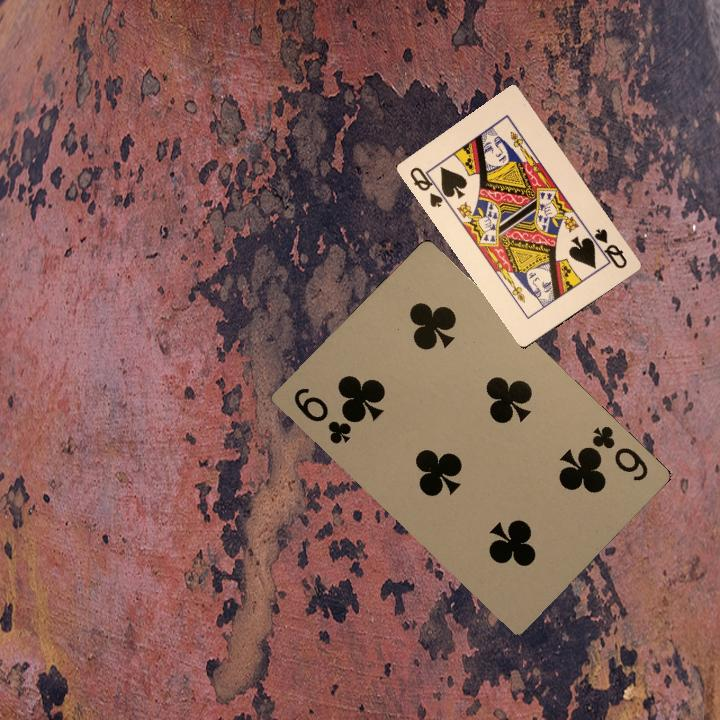6c: (583, 421, 651, 484), (289, 383, 354, 447)
Qs: (584, 224, 630, 271), (406, 163, 450, 210)
